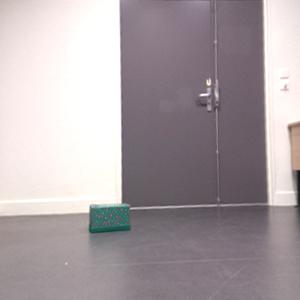small: (85, 202, 135, 233)
